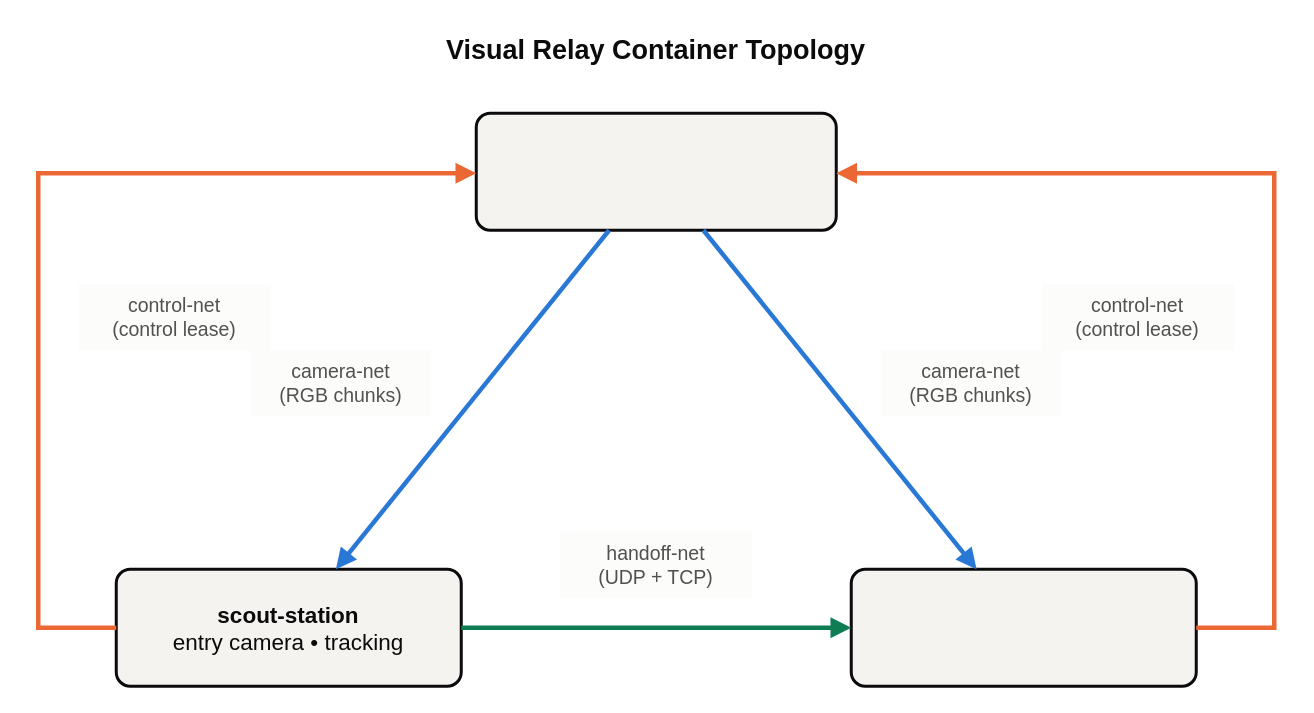
Some shapes in this 1314 by 713 pixel diagram are drawn without their labels. Here are the shapes that lost their labels. From the top down, the centre of each, then its label:
At [655,171]: "relay-simulator conveyor world • camera GUI".
At [1023,627]: "catcher-station exit camera • intercept".
